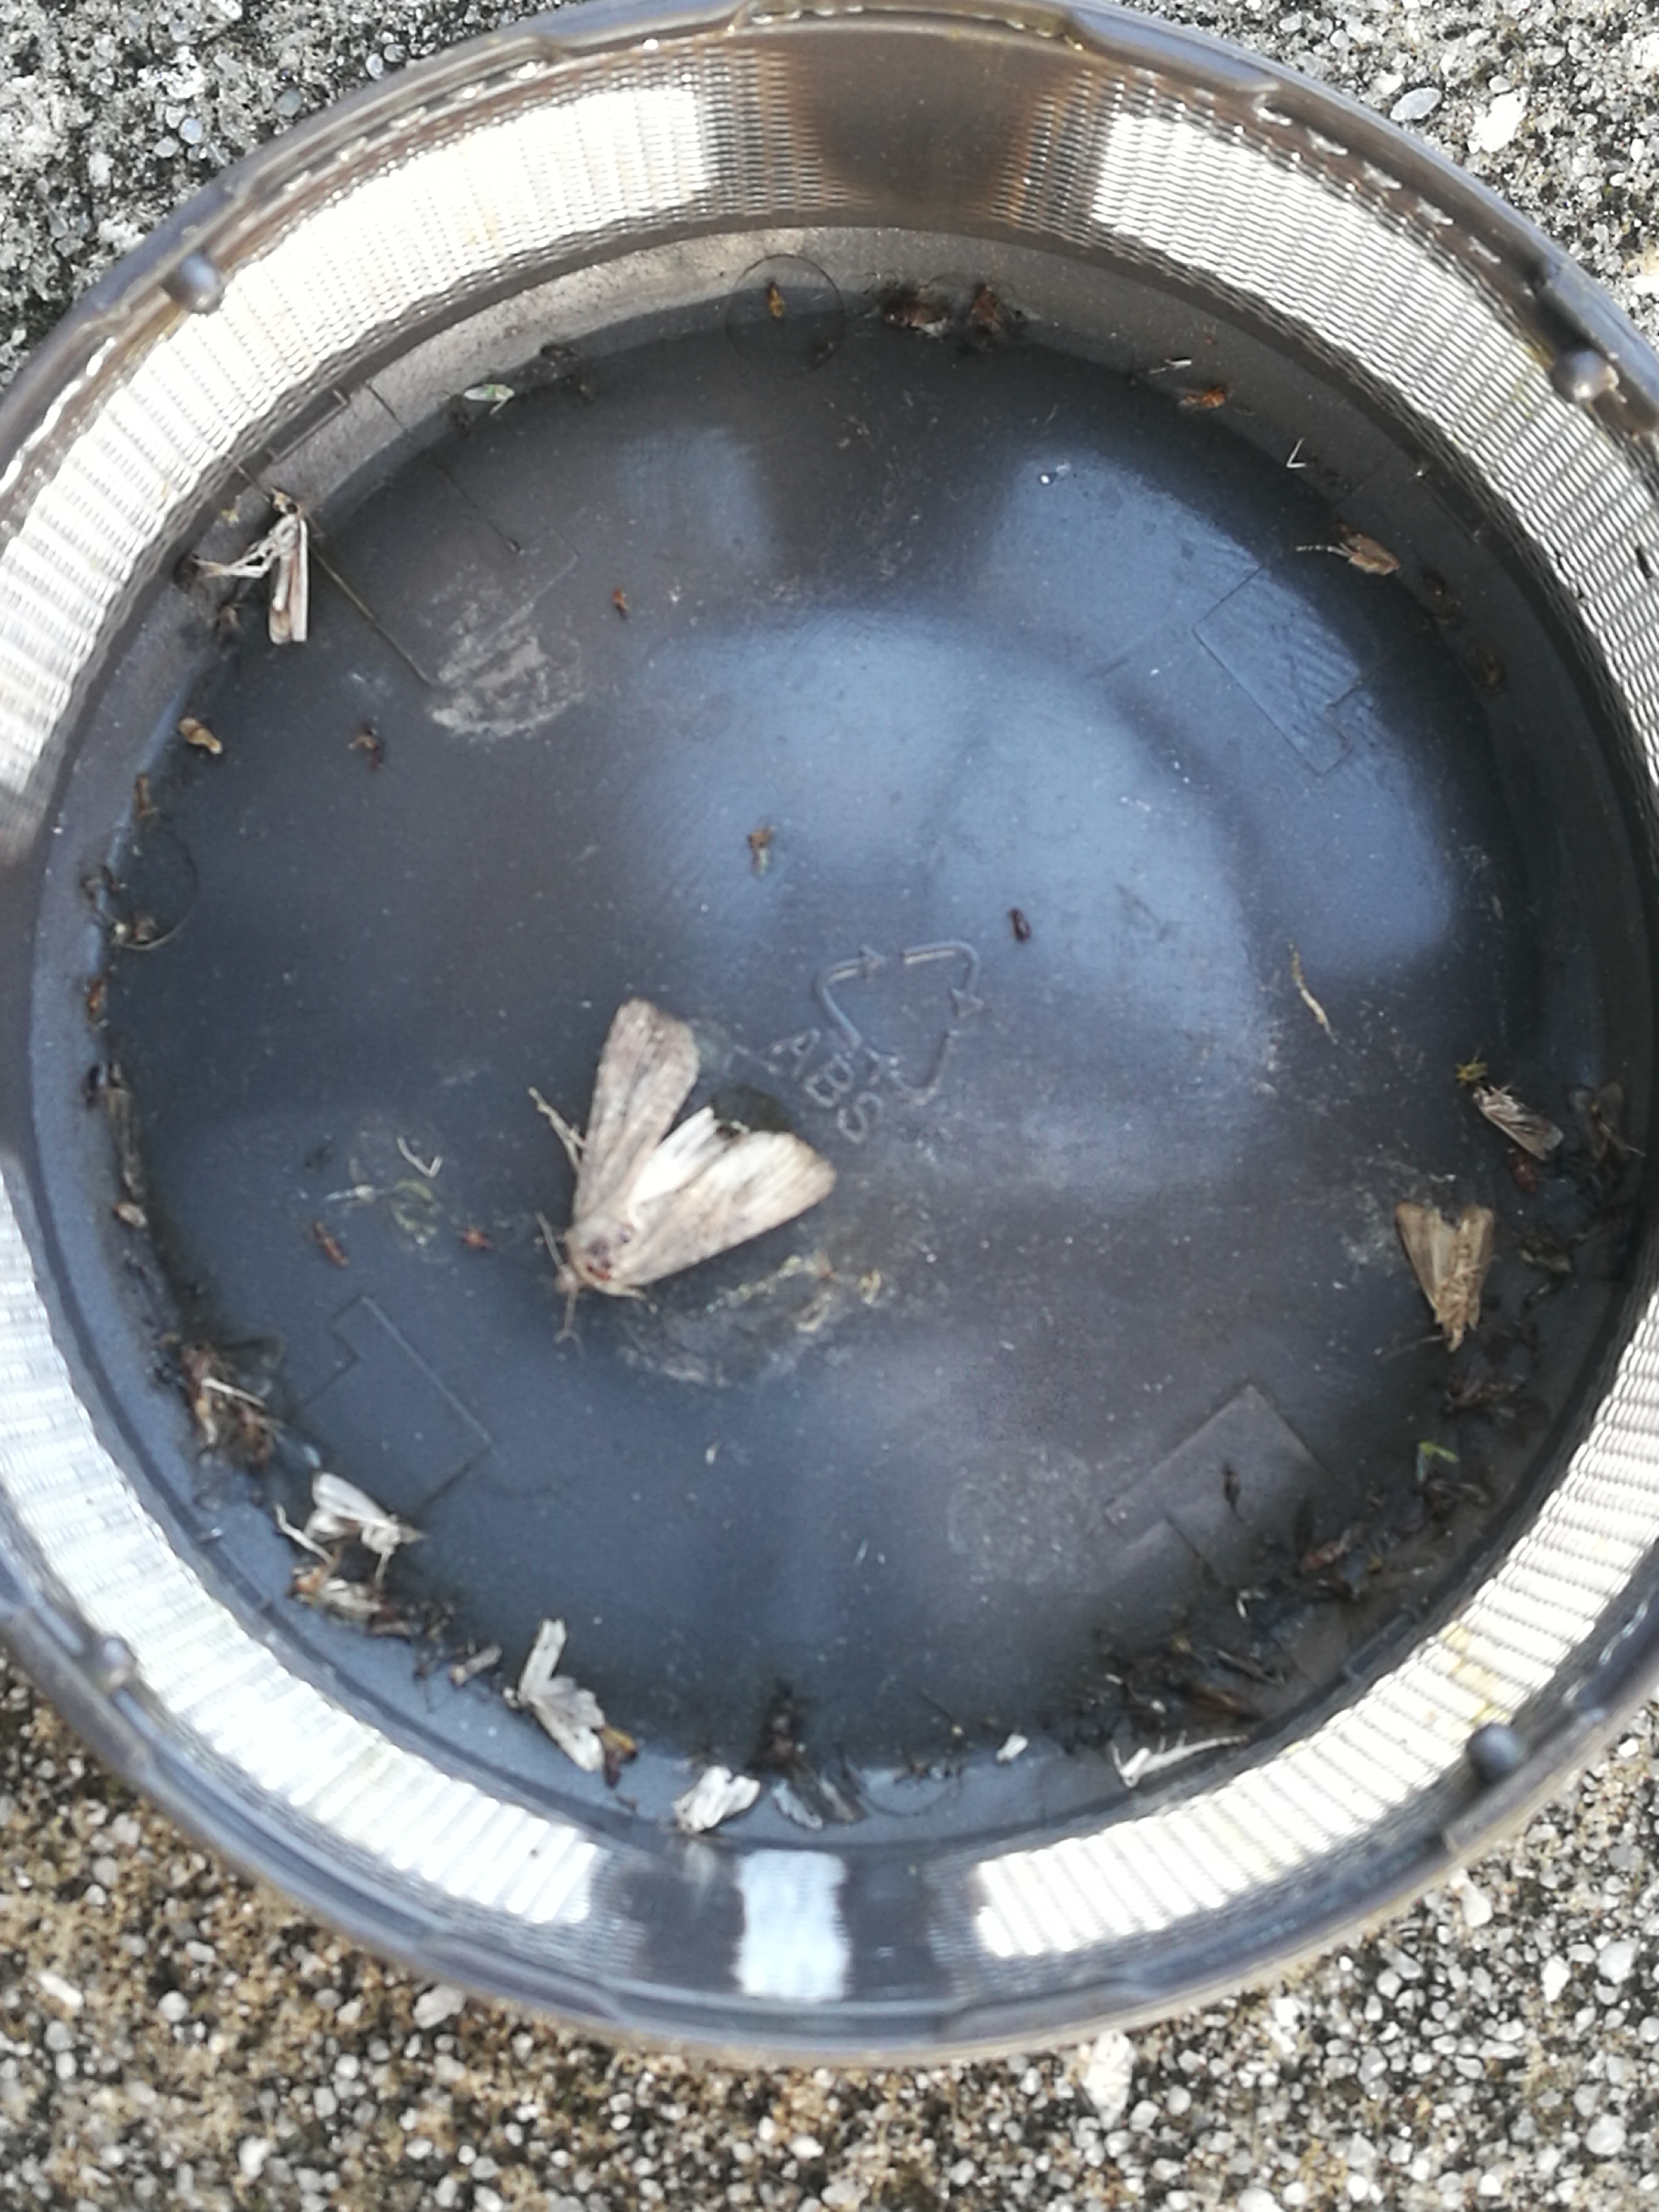mosquito: (293, 1573, 380, 1615)
moth: (556, 1000, 836, 1292), (197, 489, 310, 644), (504, 1622, 605, 1771), (1394, 1204, 1495, 1348), (179, 1336, 286, 1442), (303, 1474, 429, 1554), (1471, 1085, 1563, 1158), (671, 1764, 760, 1832), (1570, 1082, 1626, 1169)
